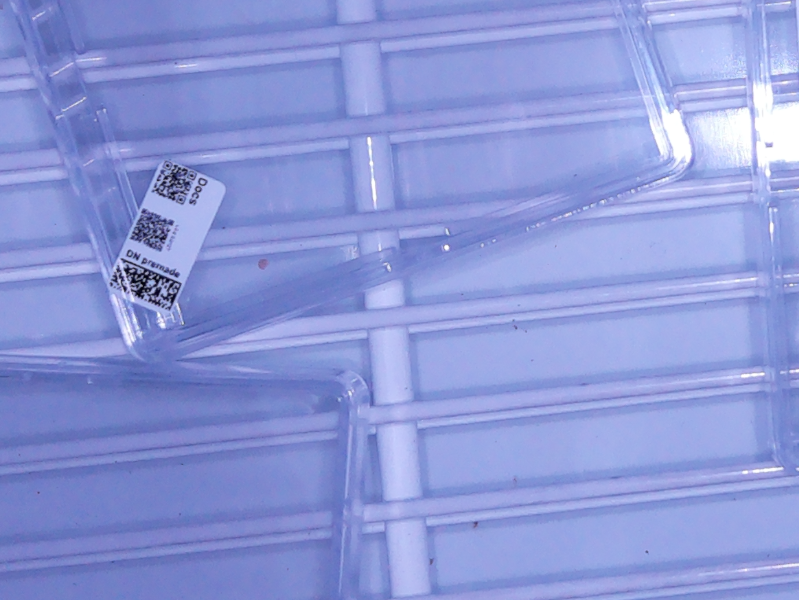plate: (7, 1, 696, 361), (1, 358, 372, 600), (751, 1, 799, 478)
